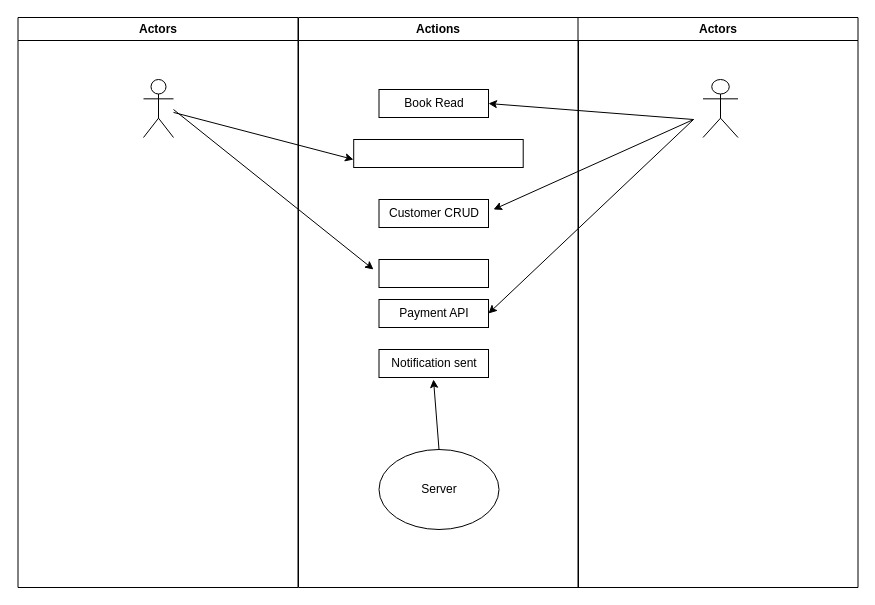
The diagram is 875 pixels wide and 605 high, and some of its shapes have lost their labels. The centre of each missing label's shape, as x and y in pixels:
Admin: [158,108]
Book Write/update/Delete: [438,153]
Customer: [720,108]
Subscription CRUD: [433,273]
